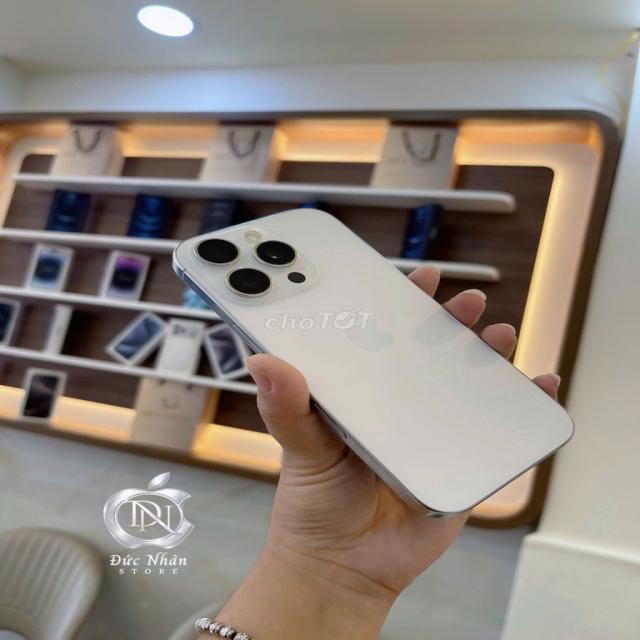gen_16: (173, 209, 572, 516)
